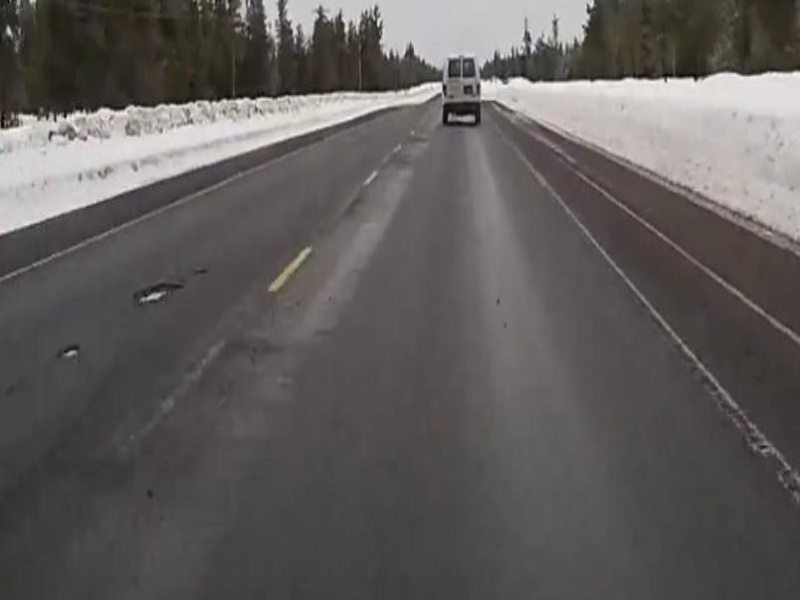pothole: (131, 280, 185, 305), (53, 344, 83, 363)
